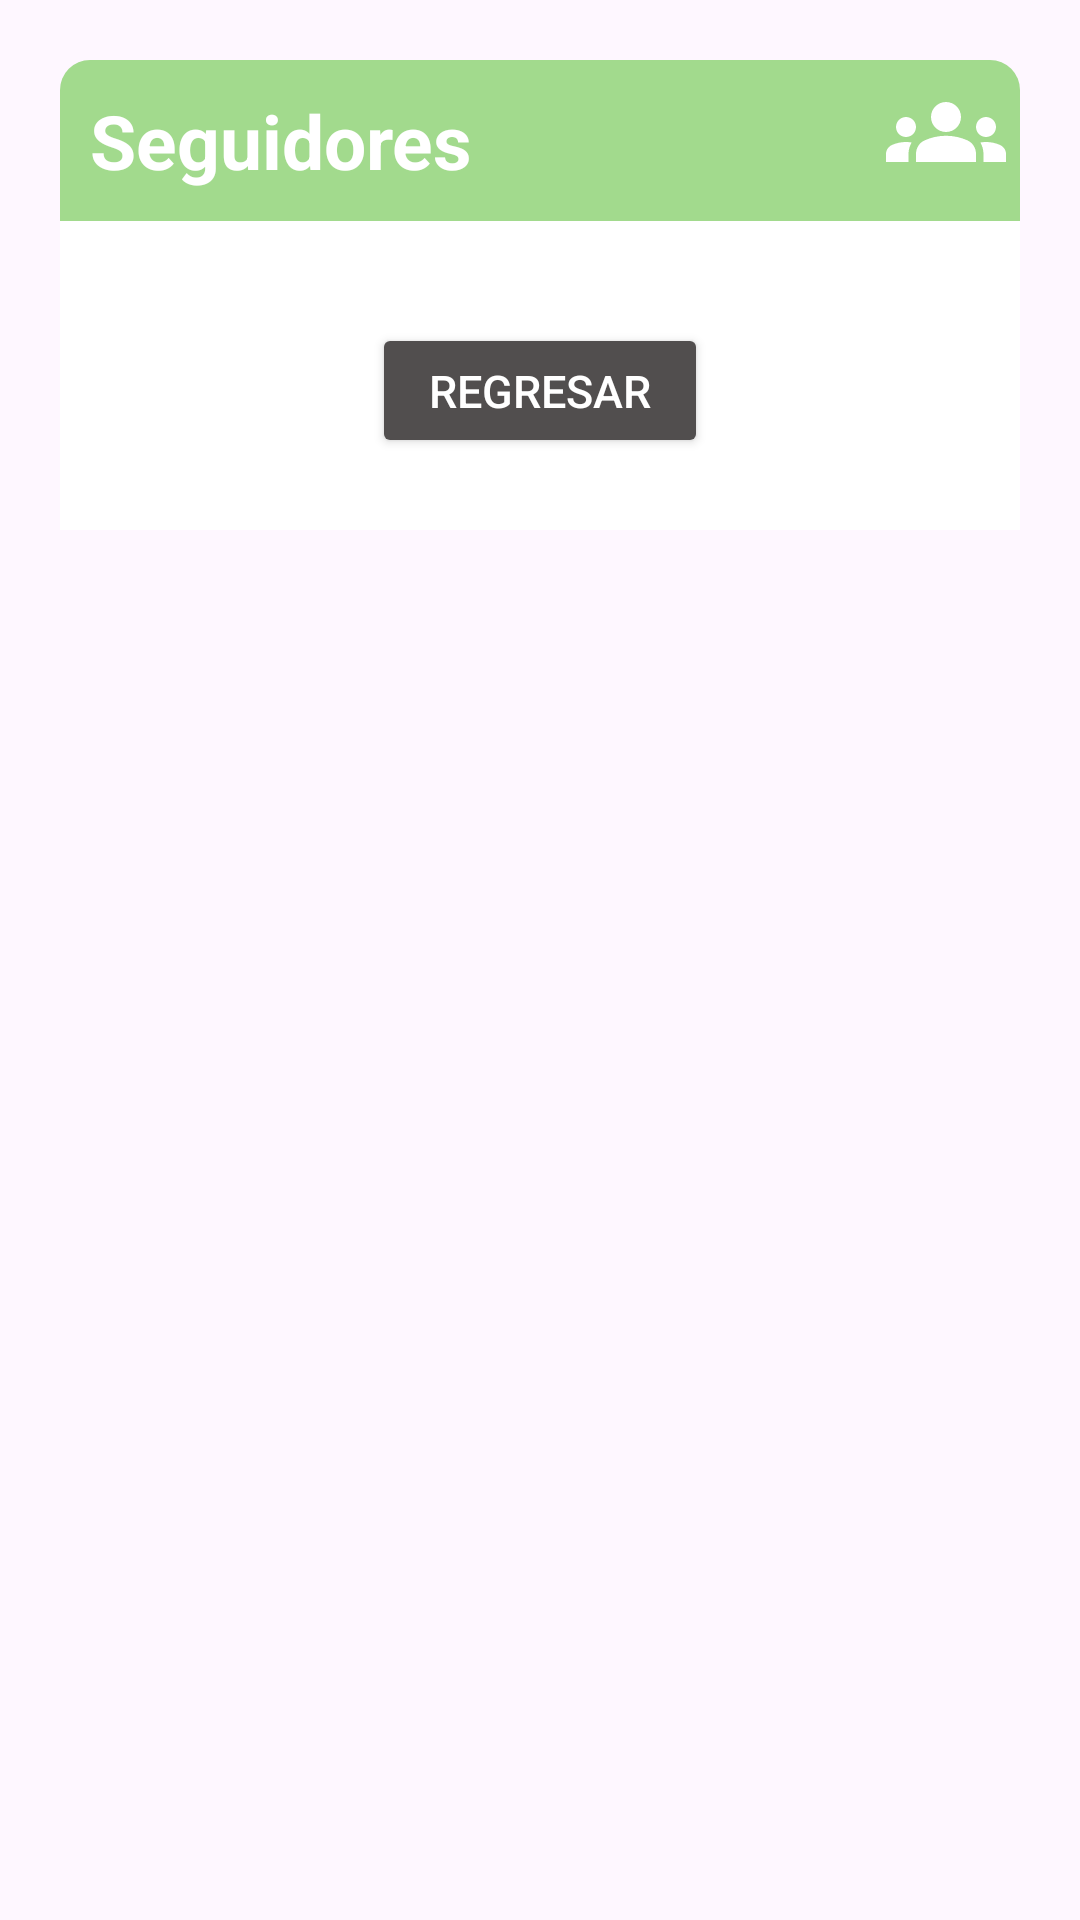

Icon click points for this 1080 × 1920 phone screenshot, format [x,y]:
groups: [946,132]
